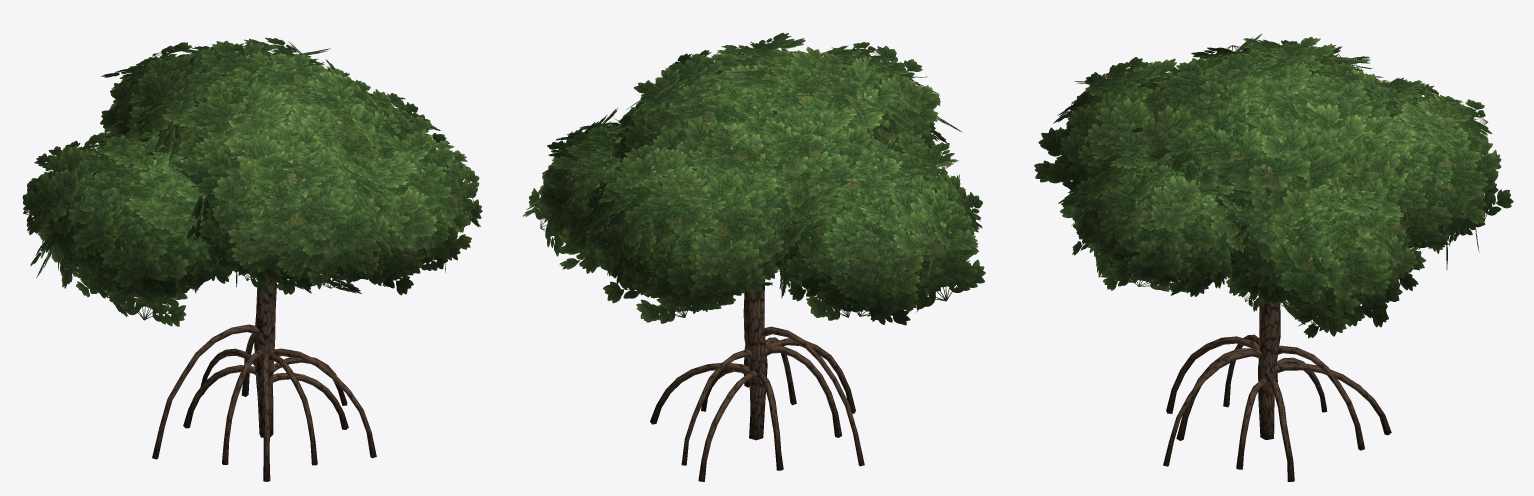
The model's file is mangrove_b_lod1.glb.
3 renders of one model, left to right at view 1: azimuth 30°, elevation 25°; view 2: azimuth 150°, elevation 25°; view 3: azimuth 270°, elevation 25°, orthographic. The views are drawn at different scales.
Visible parts, largest first — view 1: leaves, wood; view 2: leaves, wood; view 3: leaves, wood.
Boxes of the visible parts, x1,y1,x2,y2 form: leaves: [22, 37, 482, 326]; wood: [152, 278, 376, 481]; leaves: [522, 32, 985, 325]; wood: [650, 285, 864, 481]; leaves: [1034, 33, 1513, 338]; wood: [1163, 299, 1391, 481].
Bounding box in the file's own units: 10.84 × 9.43 × 10.37.
Materials: 2 (2 with a texture image).
